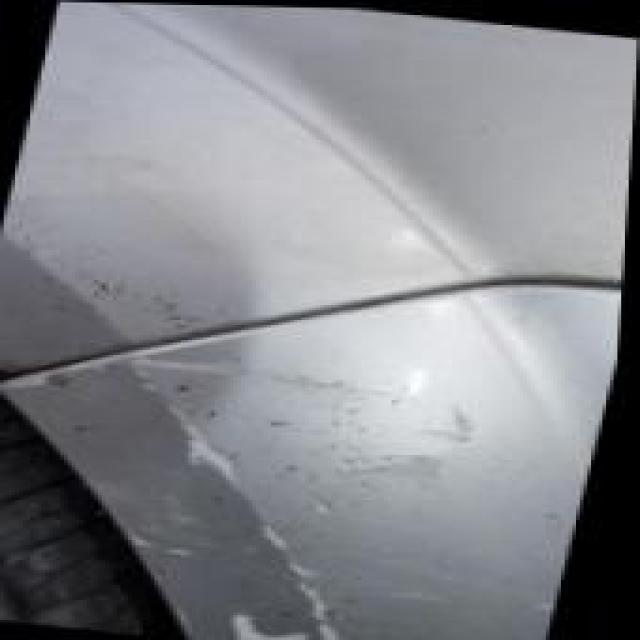Bumper: (41, 338, 576, 640)
